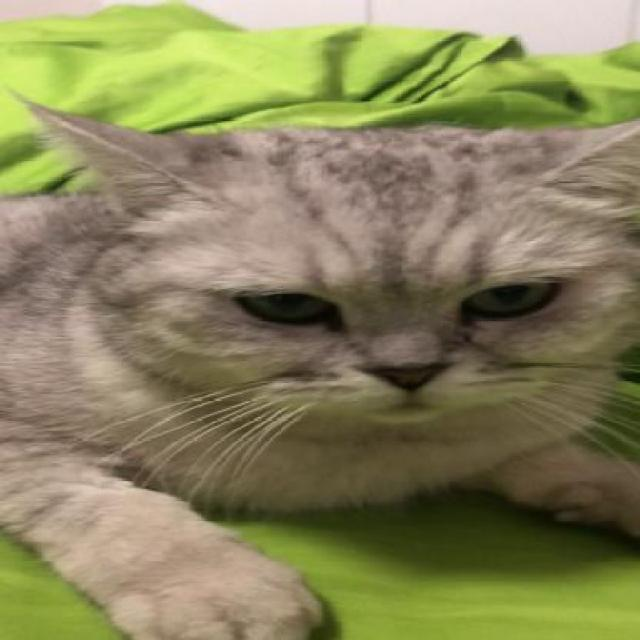cat-face: (15, 89, 640, 434)
